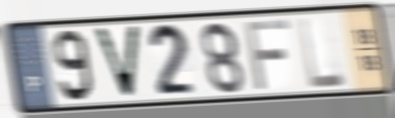2: (147, 19, 203, 102)
8: (200, 19, 246, 96)
9: (52, 28, 95, 104)
F: (242, 17, 293, 92)
L: (296, 15, 349, 92)
V: (90, 24, 143, 101)
